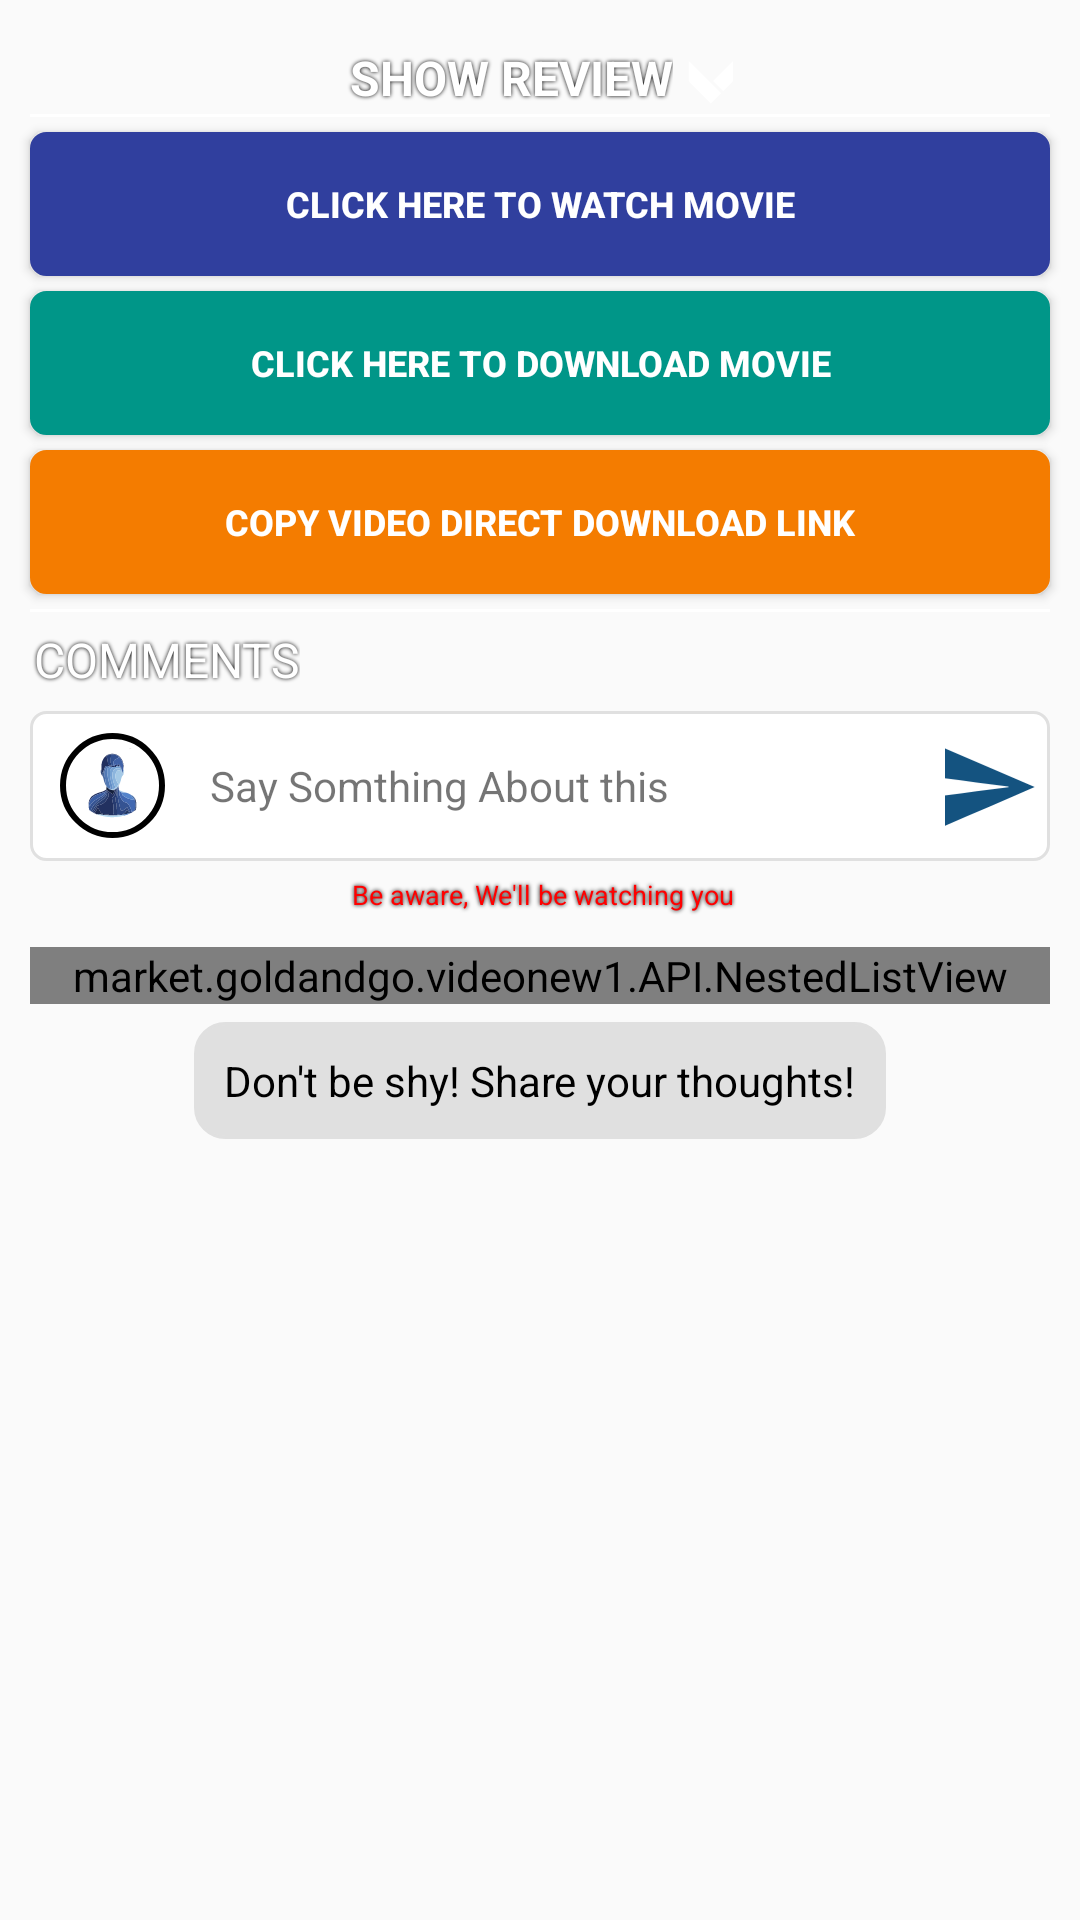

Point at icon controls on the screen. Image size 1080x1920, points as (x,y).
send: (989,787)
user: (112,785)
